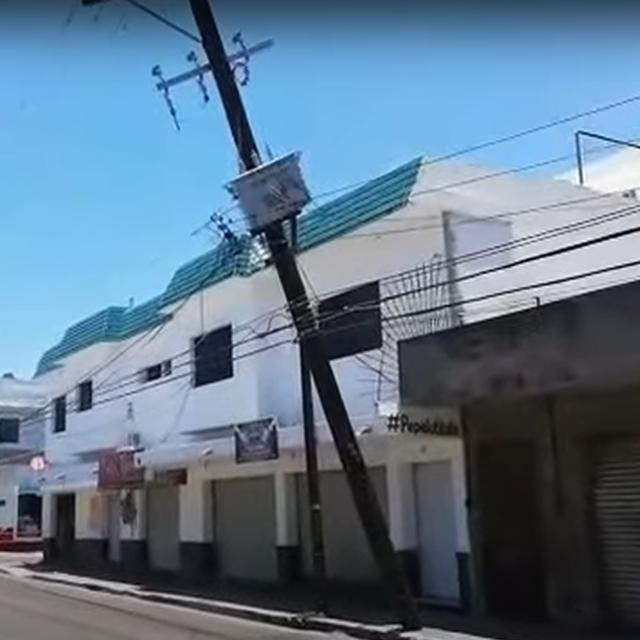Inclined Pole: (80, 0, 432, 639)
